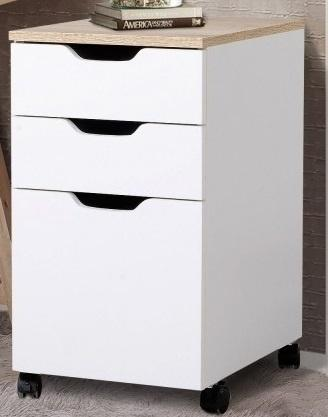cabinet_door: (12, 197, 203, 378), (10, 44, 204, 124), (11, 119, 205, 196)
handle: (70, 114, 144, 146), (64, 37, 148, 65), (73, 188, 146, 217)
